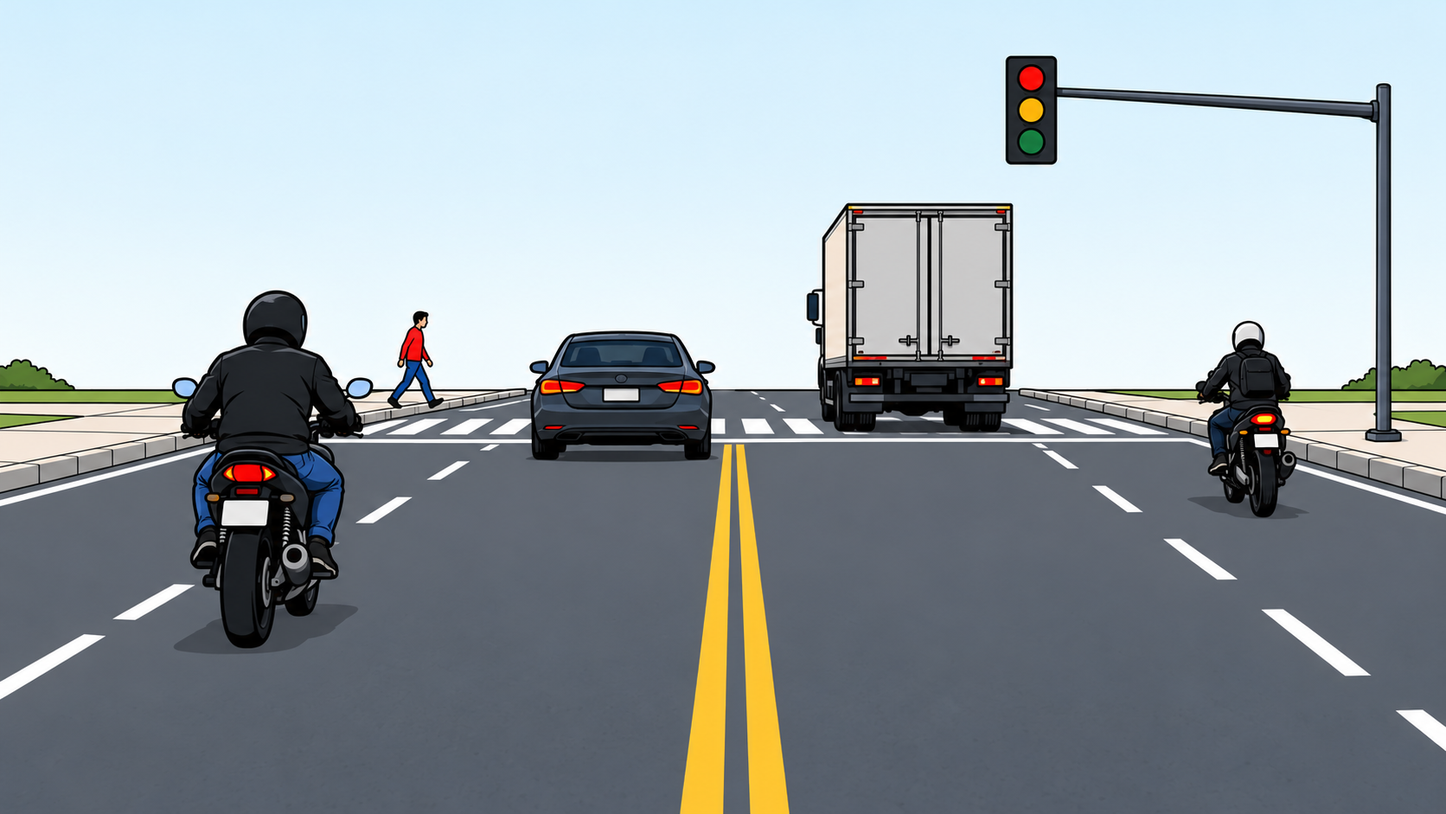car: (530, 331, 714, 462)
motorcycle: (182, 379, 368, 648), (1193, 375, 1304, 528)
person: (188, 292, 364, 579), (1197, 322, 1299, 518), (384, 311, 446, 405)
traffic_light: (1006, 55, 1057, 164)
truck: (803, 204, 1014, 433)
zebra_crossing: (0, 385, 1446, 445)
